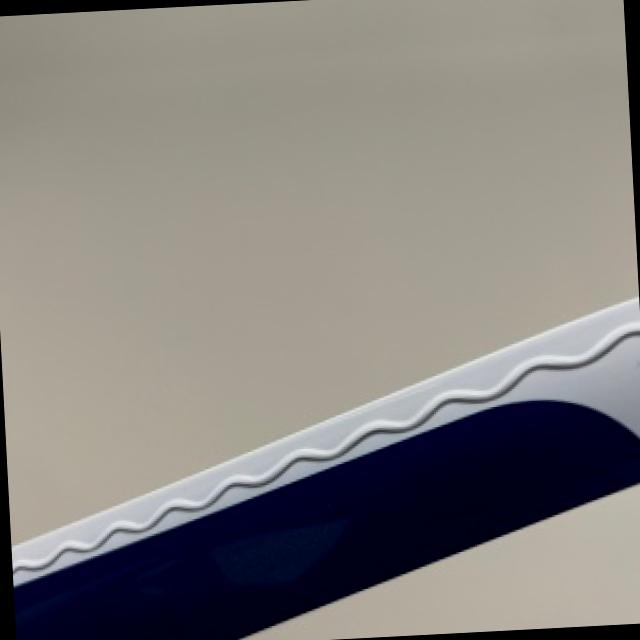healthy: (496, 520, 640, 623)
